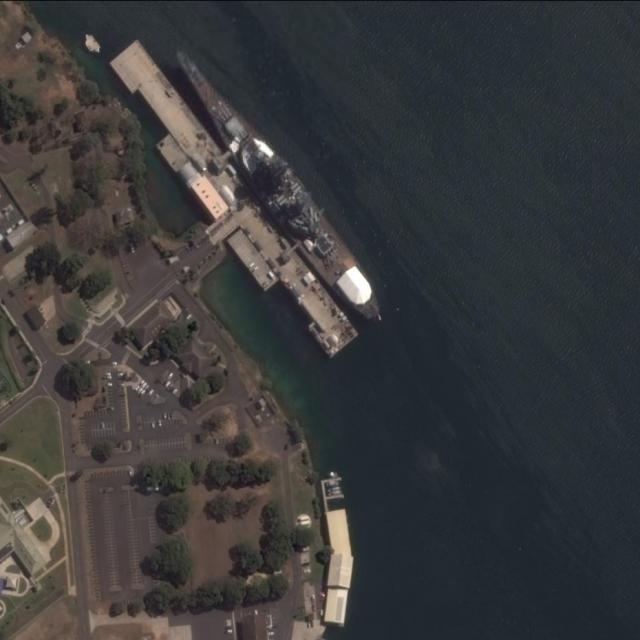Dock: (107, 38, 361, 356)
Other Warship: (162, 43, 392, 324)
